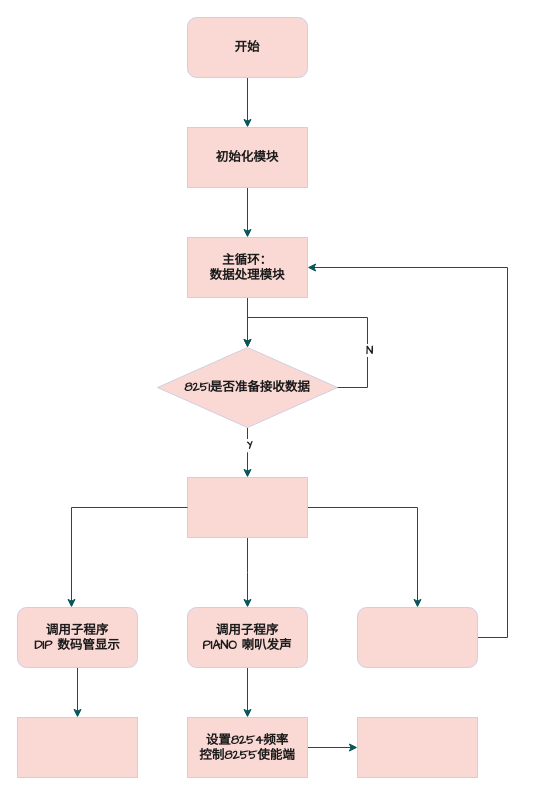
This 533x795 diagram has some shape labels left out. The centre of each missing label's shape, as x and y in pixels:
"从8251读取数据 处理数据" goes at pixel 247 507.
"喇叭发声" goes at pixel 417 747.
"设置8255 A端口 输出数码管数据" goes at pixel 77 747.
"调用子程序 DELAY1 延时" goes at pixel 417 637.
